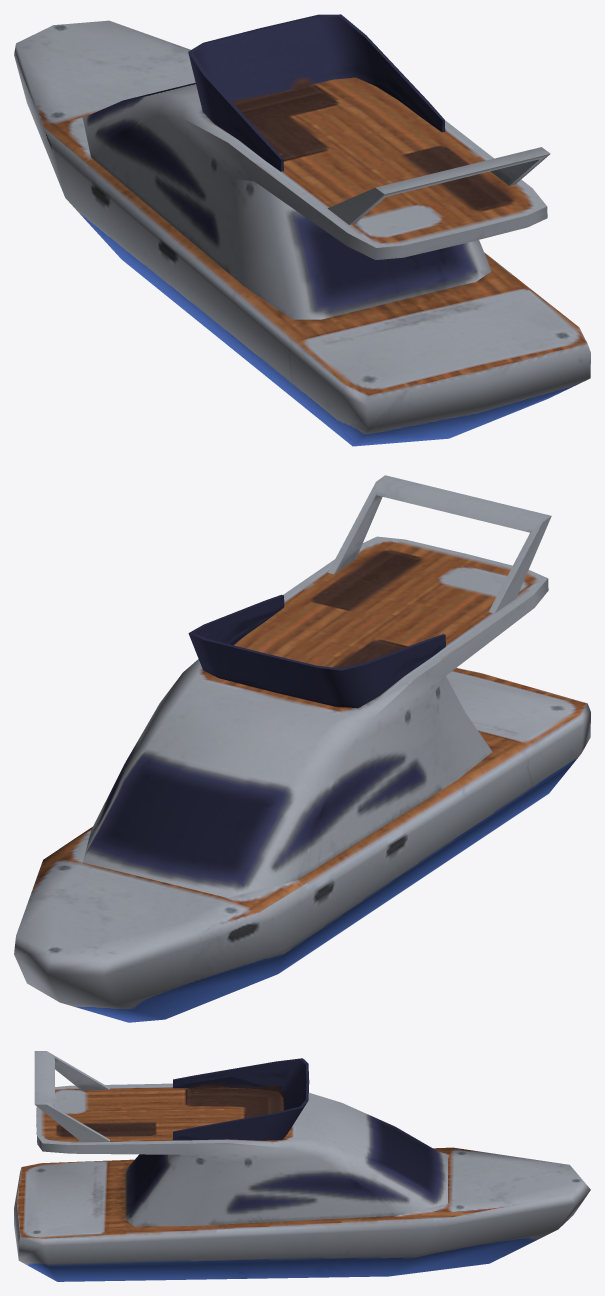
File: MB_Yacht_Small.fbx
3 views of the same model, one above another, from view 1: azimuth 30°, elevation 25°; view 2: azimuth 150°, elevation 25°; view 3: azimuth 270°, elevation 25° (orthographic). The views are drawn at different scales.
Parts seen in each view (by area): view 1: MB_Yacht_Small; view 2: MB_Yacht_Small; view 3: MB_Yacht_Small.
Boxes of the visible parts, <box> form: MB_Yacht_Small: <box>14,14,590,446</box>; MB_Yacht_Small: <box>14,475,590,1022</box>; MB_Yacht_Small: <box>14,1051,590,1281</box>.
Size of the model in its own units: 590 by 669 by 1832.
